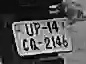1: (50, 35, 57, 49), (46, 21, 53, 34)
2: (43, 35, 51, 50)
4: (51, 20, 60, 34), (55, 34, 62, 48)
6: (62, 33, 69, 47)
C: (22, 38, 30, 52)
P: (33, 21, 42, 38)
Q: (29, 39, 39, 52)
U: (24, 22, 34, 37)
